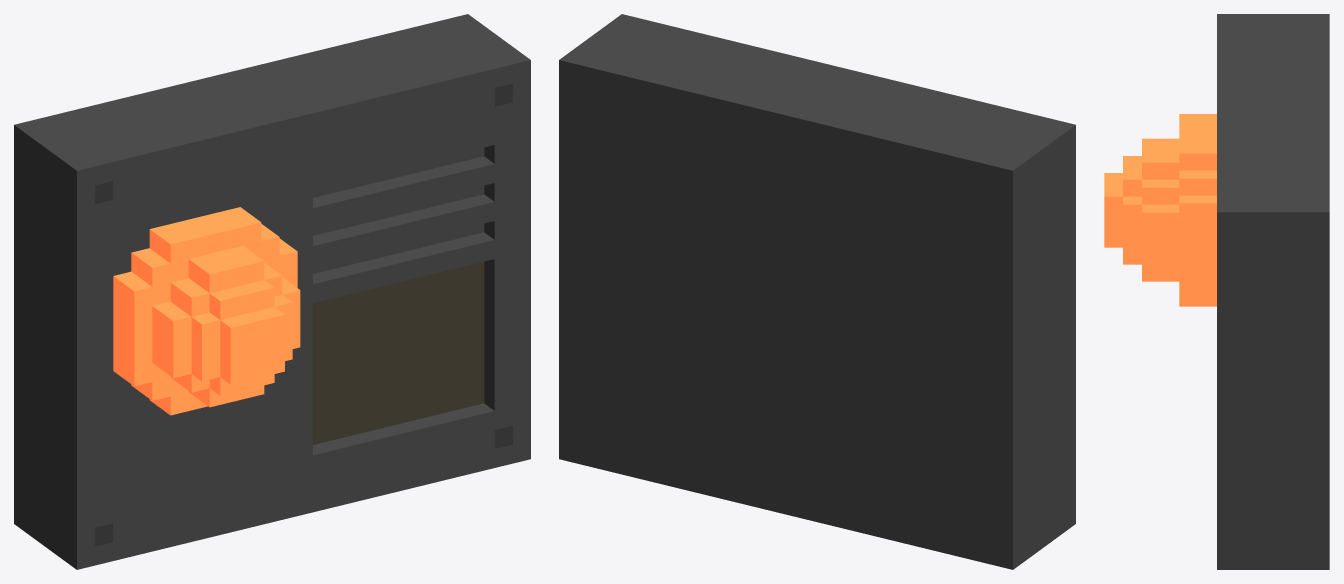
File: lampka_urzadzenie.dae
3 renders of one model, left to right at view 1: azimuth 30°, elevation 25°; view 2: azimuth 150°, elevation 25°; view 3: azimuth 270°, elevation 25°, orthographic. The views are drawn at different scales.
Visible parts, largest first — view 1: Content; view 2: Content; view 3: Content.
Part boxes in pixels (box(x1,y1,x2,y2)): Content: box(14, 14, 530, 569); Content: box(559, 14, 1075, 569); Content: box(1104, 14, 1329, 569).
Size of the model in its own units: 25 by 21 by 12.
Materials: 1 (1 with a texture image).
